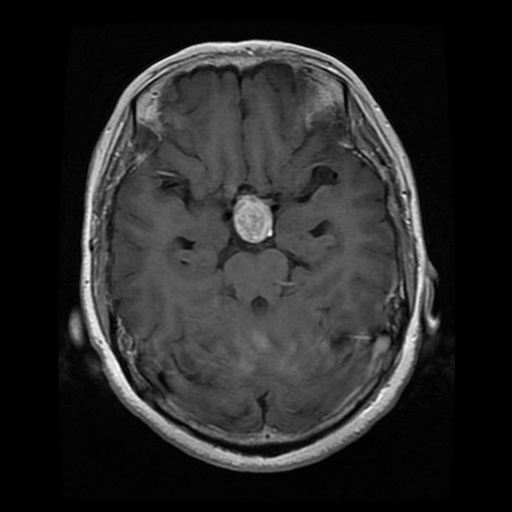pituitary: (236, 194, 272, 241)
